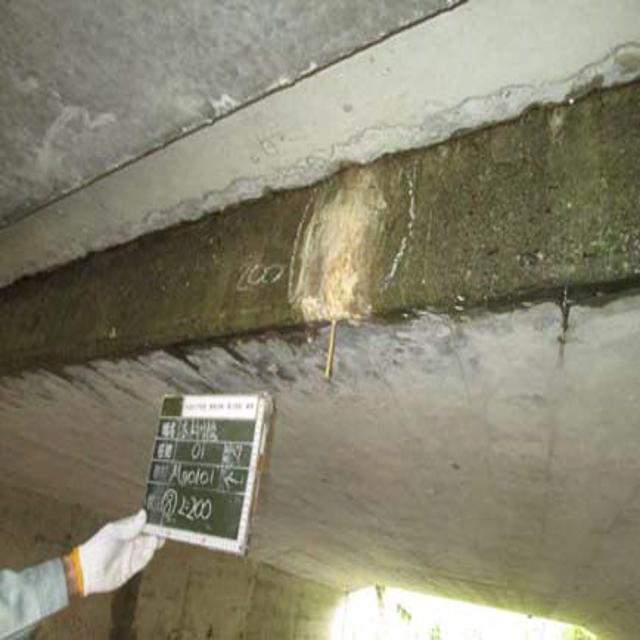corrosion: (301, 156, 396, 348)
